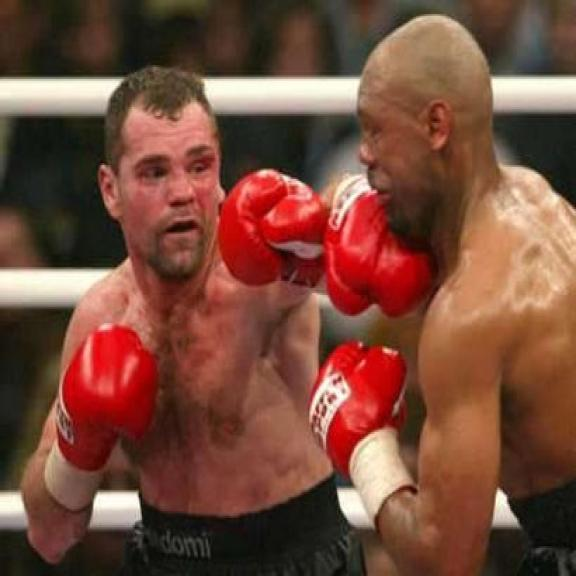face: (92, 96, 224, 280), (346, 66, 451, 243)
